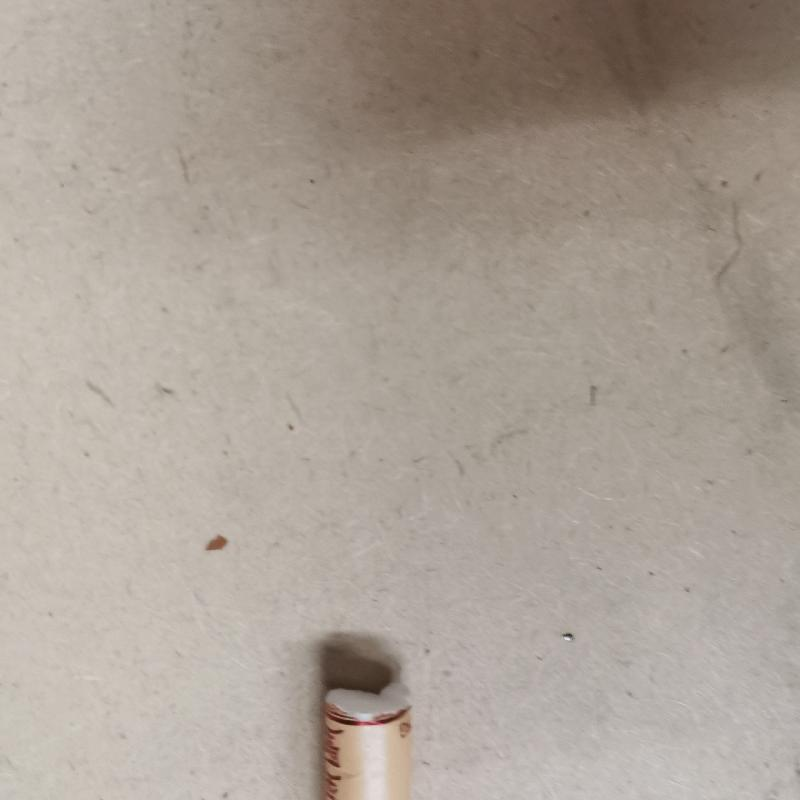cigarette: (306, 678, 440, 800)
